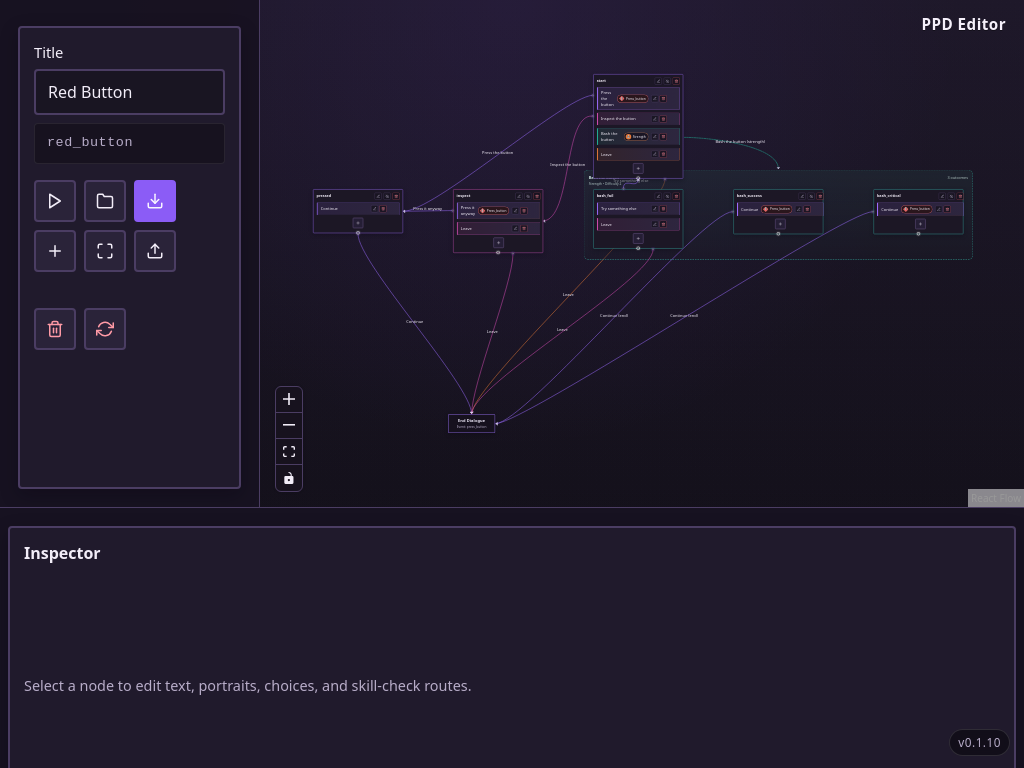
App › opens the preview overlay
This screenshot has width=1024, height=768.
Click the button named "Preview" at (55, 201), box left=34, top=180, right=76, bottom=222
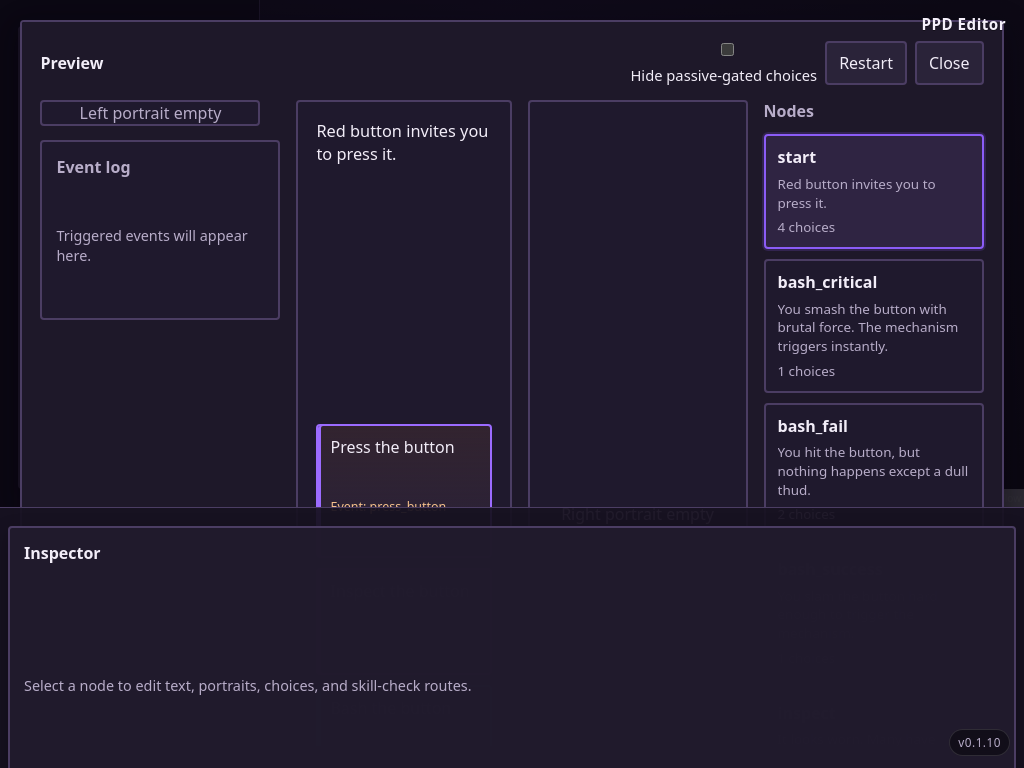
Now the dialog is shown
Now the 2nd text "Red button invites you to press it." is shown, box left=316, top=120, right=493, bottom=165
